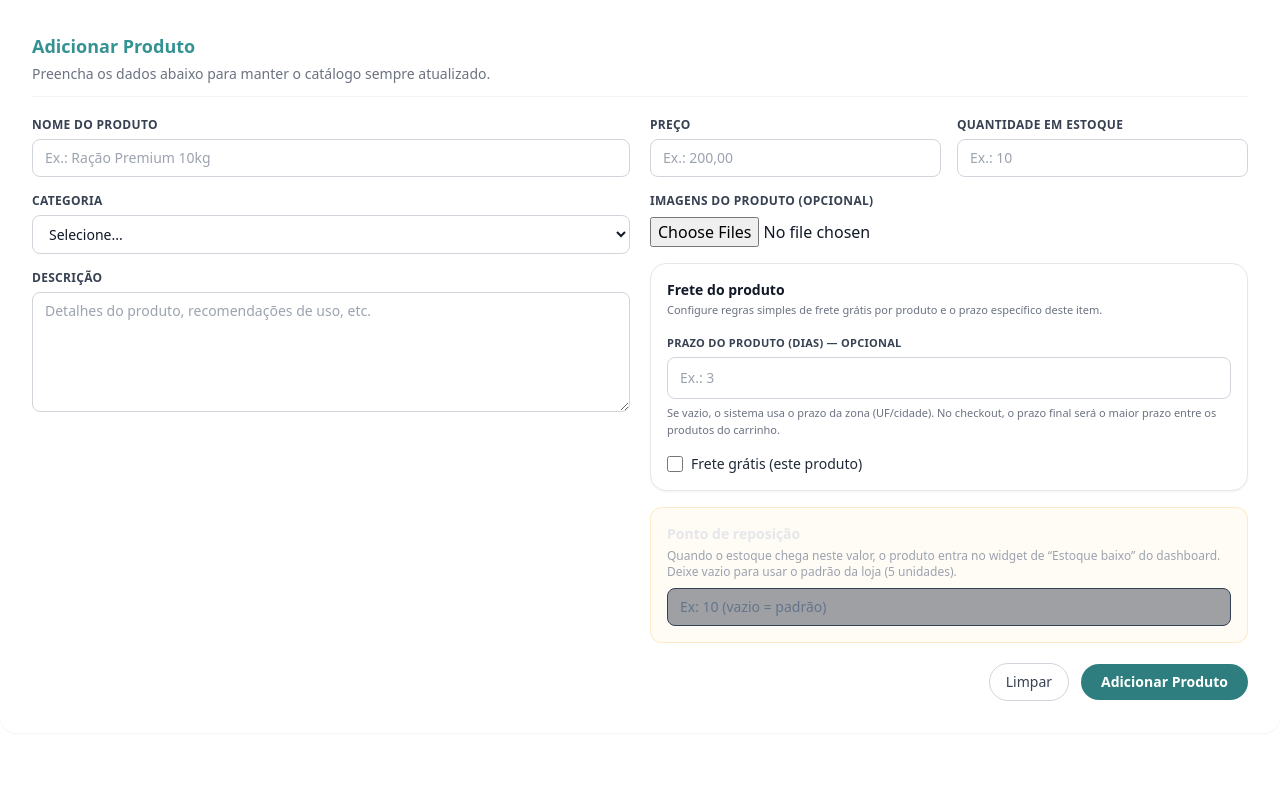
ProdutoForm (components/admin/ProdutoForm.tsx) › modo Adicionar: sempre valida categoria antes de validar preço (como no código)
Type "Produto X" into the field with placeholder "Ex.: Ração Premium 10kg".
click(331, 158); type("Produto X")  # box [32,139,630,177]
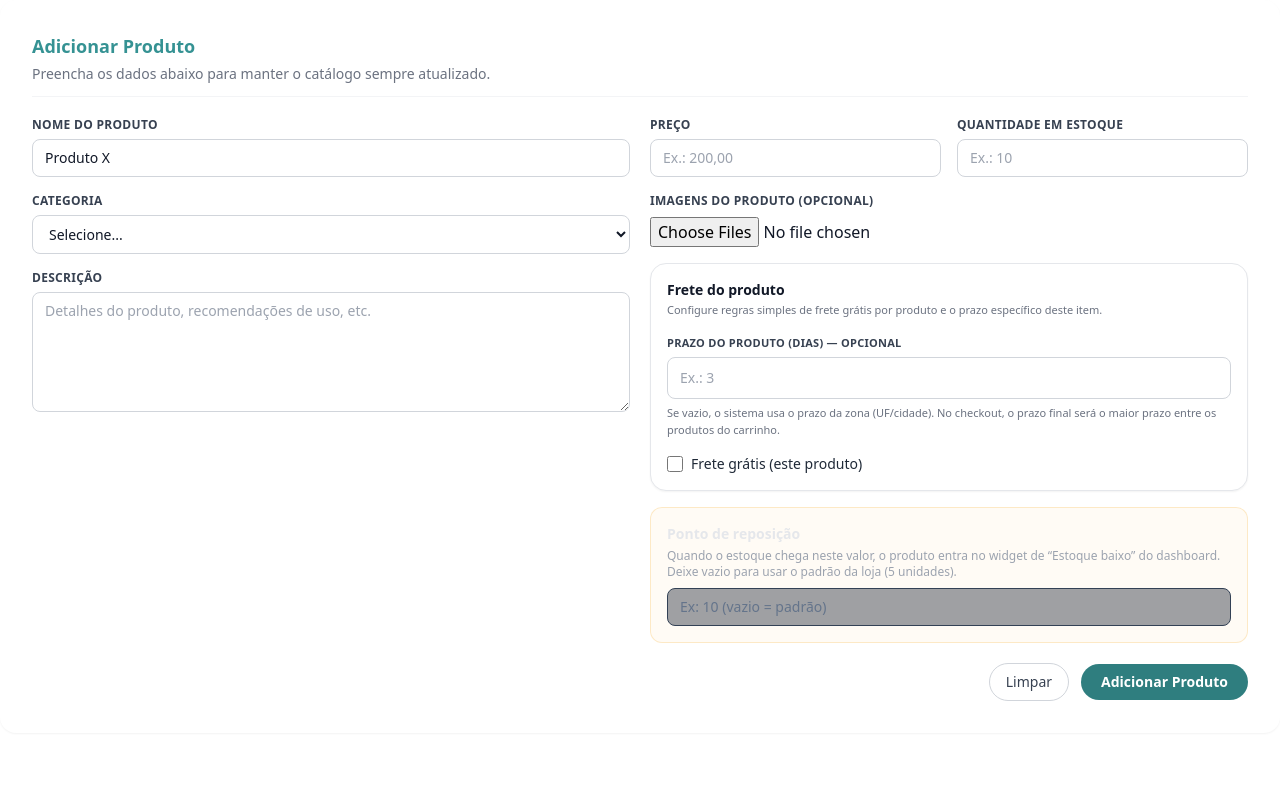
Type "0" into the field with placeholder "Ex.: 200,00".
click(796, 158); type("0")  # box [650,139,941,177]
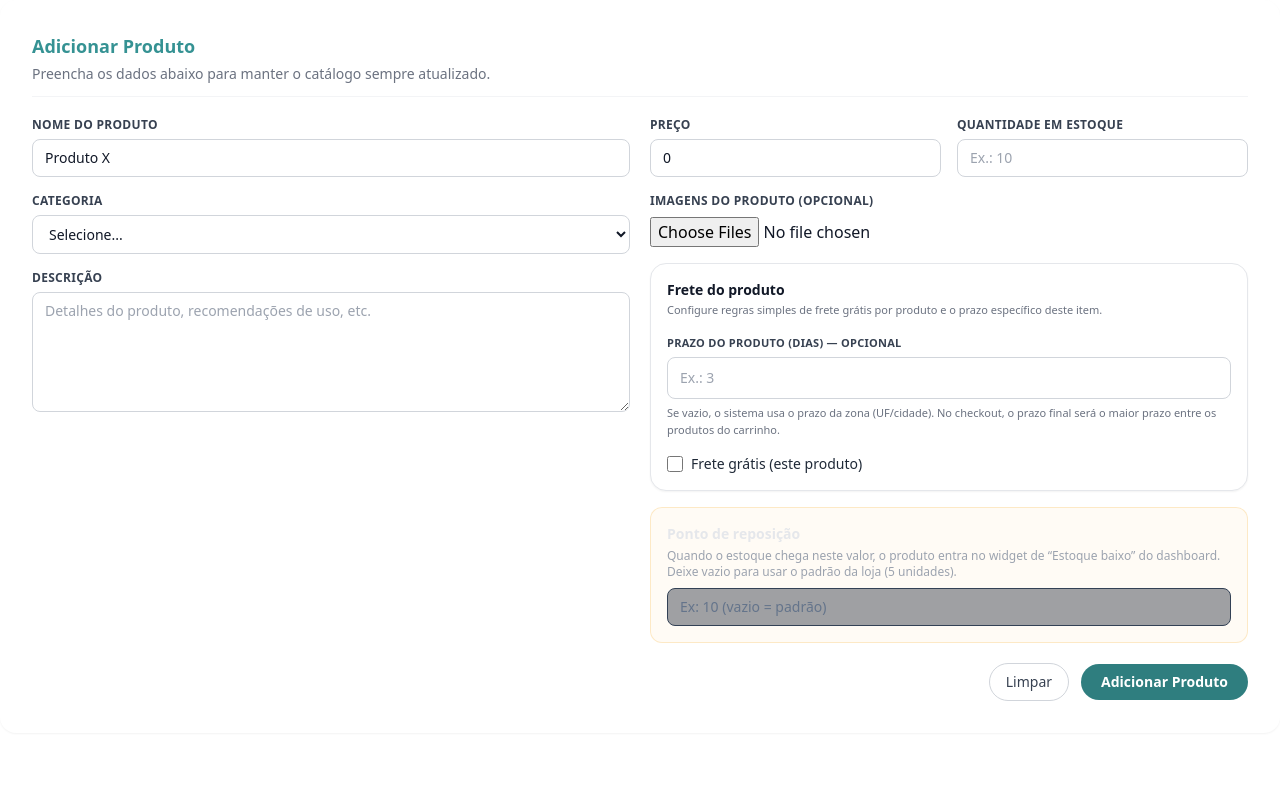
Type "10" into the field with placeholder "Ex.: 10".
click(1102, 158); type("10")  # box [957,139,1248,177]
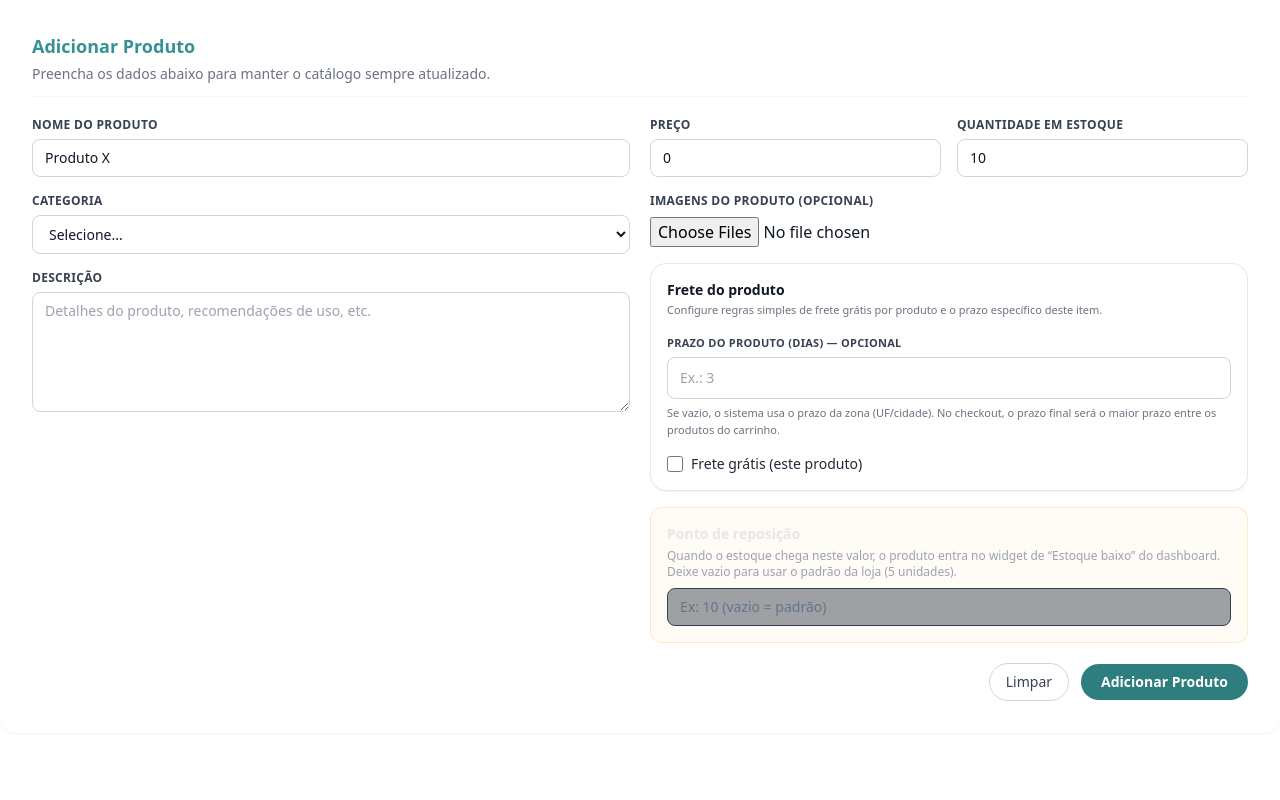
Click the button "Adicionar Produto".
click(1165, 682)  # box [1081,664,1248,700]
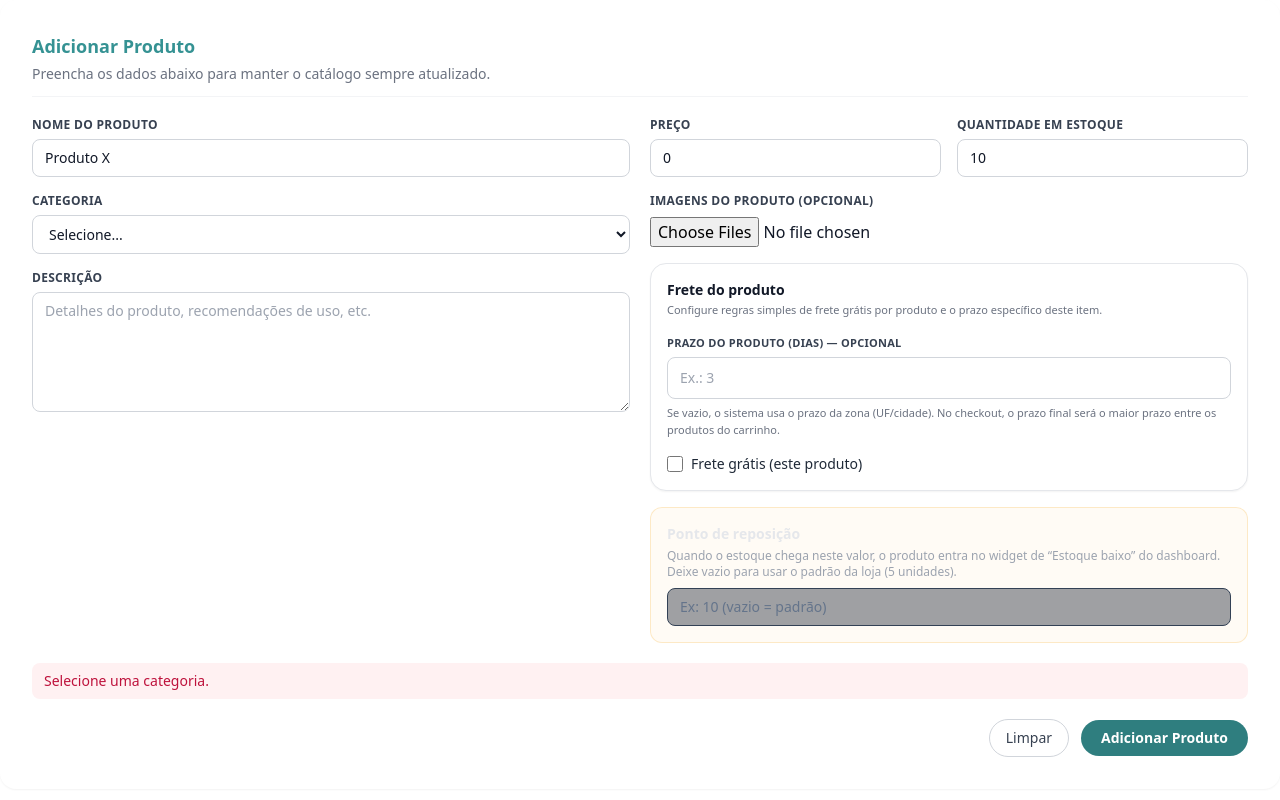
Expected: the text "Selecione uma categoria." is shown, [32,663,1248,699]
